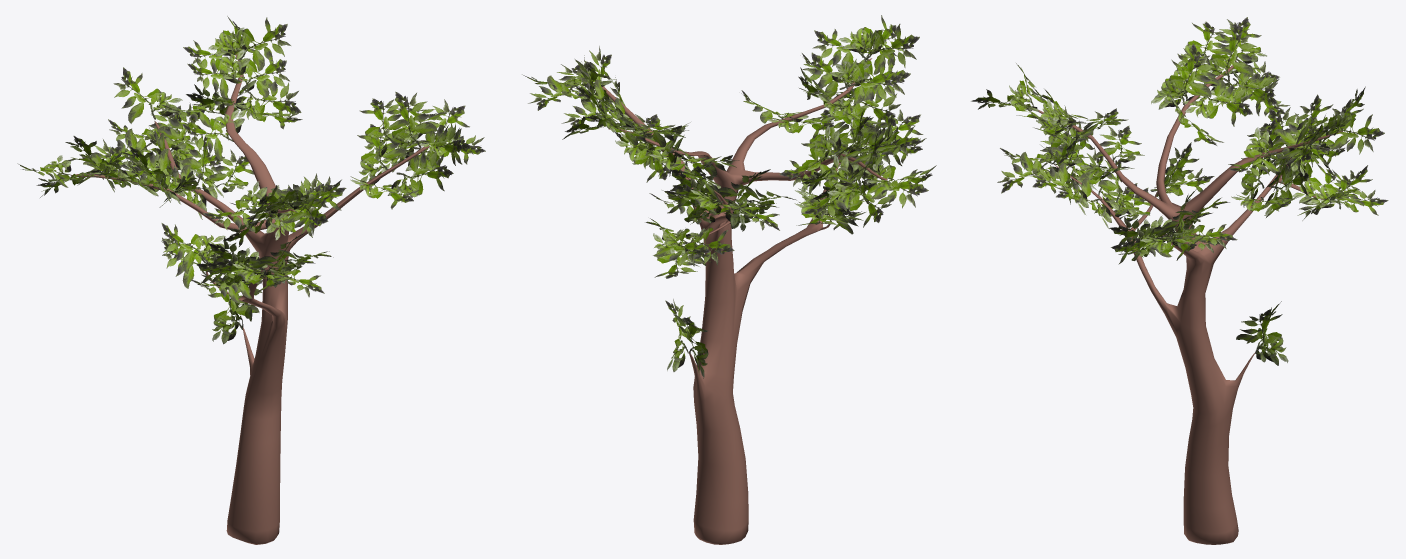
Rendered from pavilion_tree.fbx.
3 renders of one model, left to right at view 1: azimuth 30°, elevation 25°; view 2: azimuth 150°, elevation 25°; view 3: azimuth 270°, elevation 25°, orthographic. The views are drawn at different scales.
Parts seen in each view (by area): view 1: pavilion_tree; view 2: pavilion_tree; view 3: pavilion_tree.
Boxes of the visible parts, x1,y1,x2,y2 form: pavilion_tree: (17,16,485,544); pavilion_tree: (522,15,936,544); pavilion_tree: (971,17,1388,544).
Size of the model in its own units: 668 by 689 by 575.
